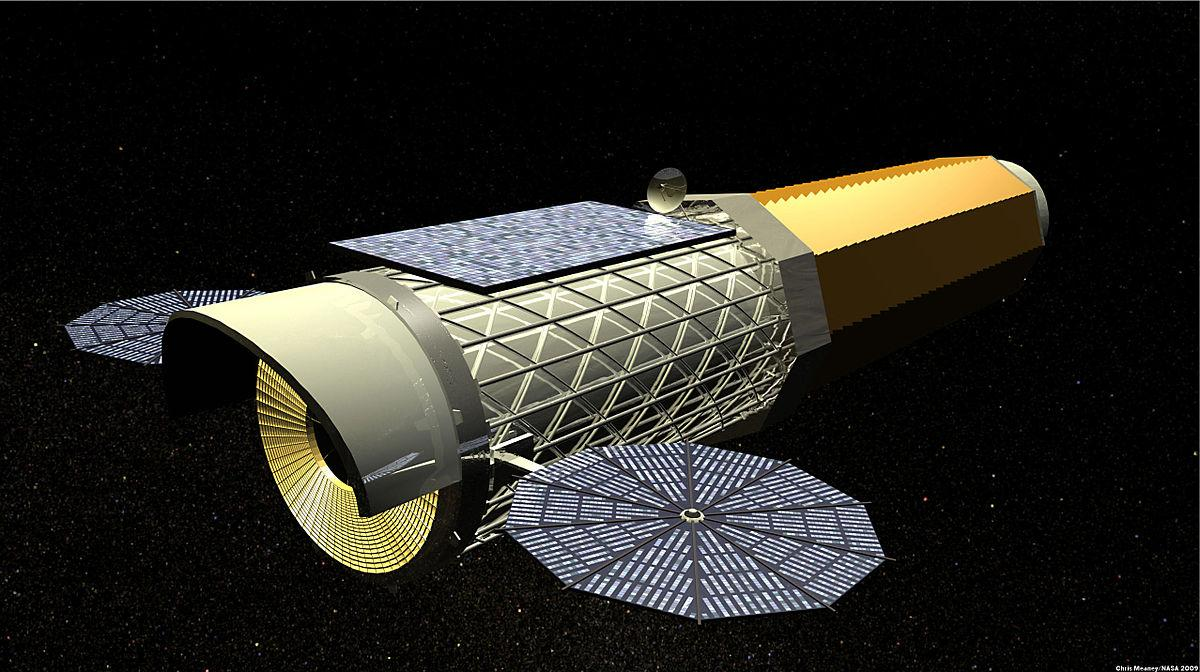antenna: (646, 165, 689, 216)
body: (250, 153, 1055, 578)
solar: (500, 436, 892, 625), (326, 197, 739, 296), (60, 286, 271, 368)
